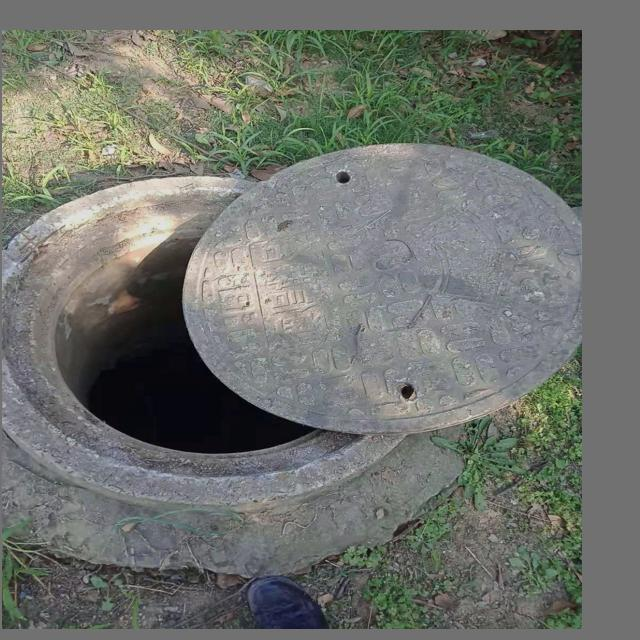uncovered: (1, 139, 576, 508)
